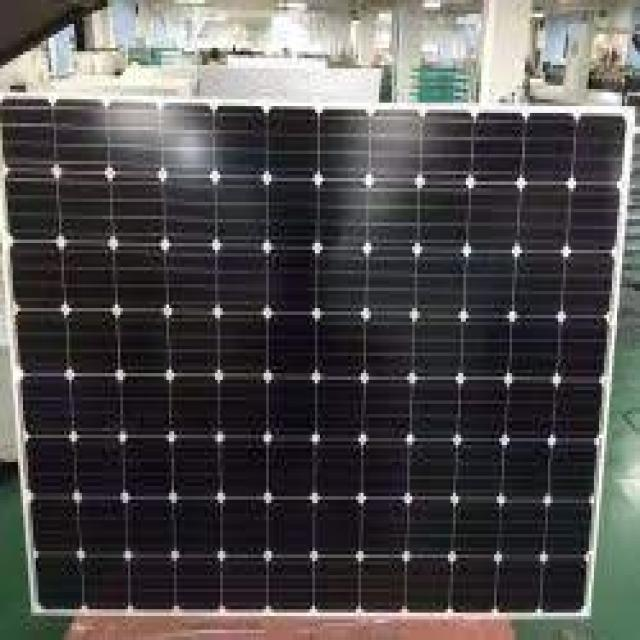no faulty: (0, 89, 612, 637)
